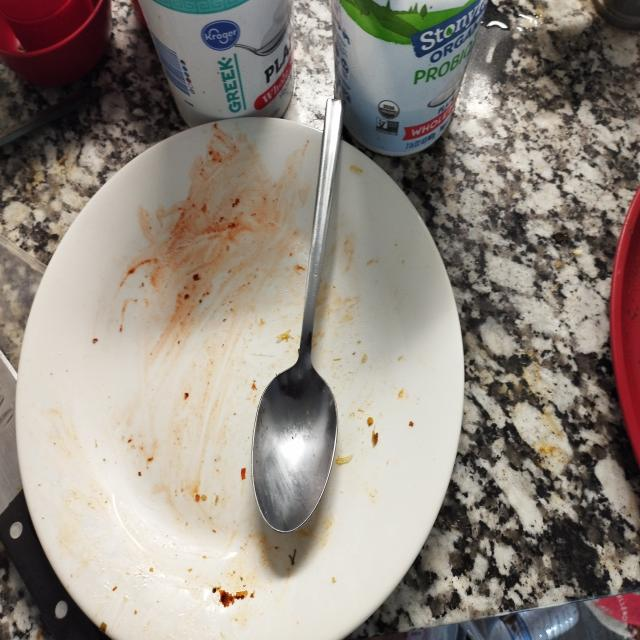Spoon: (238, 88, 361, 564)
